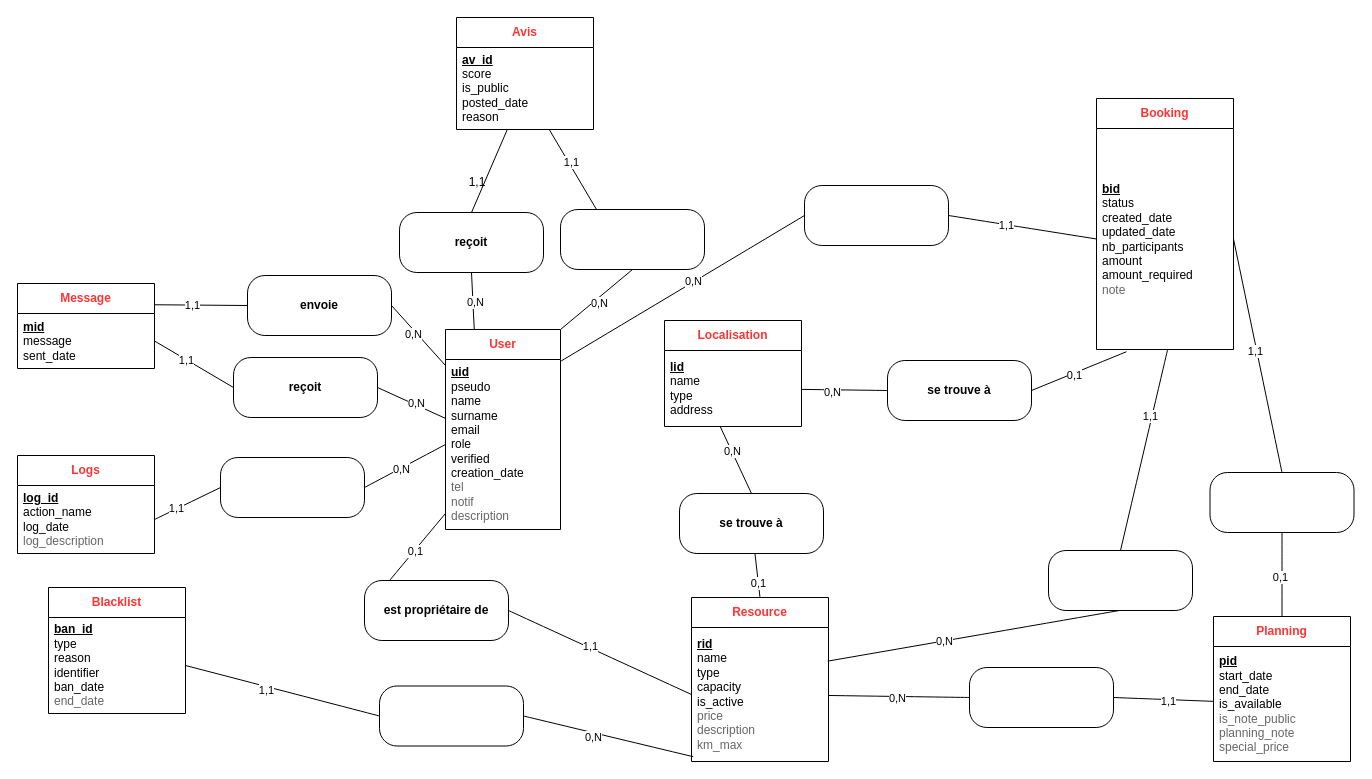
Some shapes in this 1372 by 779 pixel diagram are drawn without their labels. Here are the shapes that lost their labels. From the top down, the centre of each, then its label:
(x=876, y=215): crée
(x=632, y=239): donne
(x=292, y=487): enregistré pour
(x=1281, y=502): est planifié au
(x=1120, y=580): est ajouté
(x=451, y=715): est blacklisté pour
(x=1041, y=697): possède
